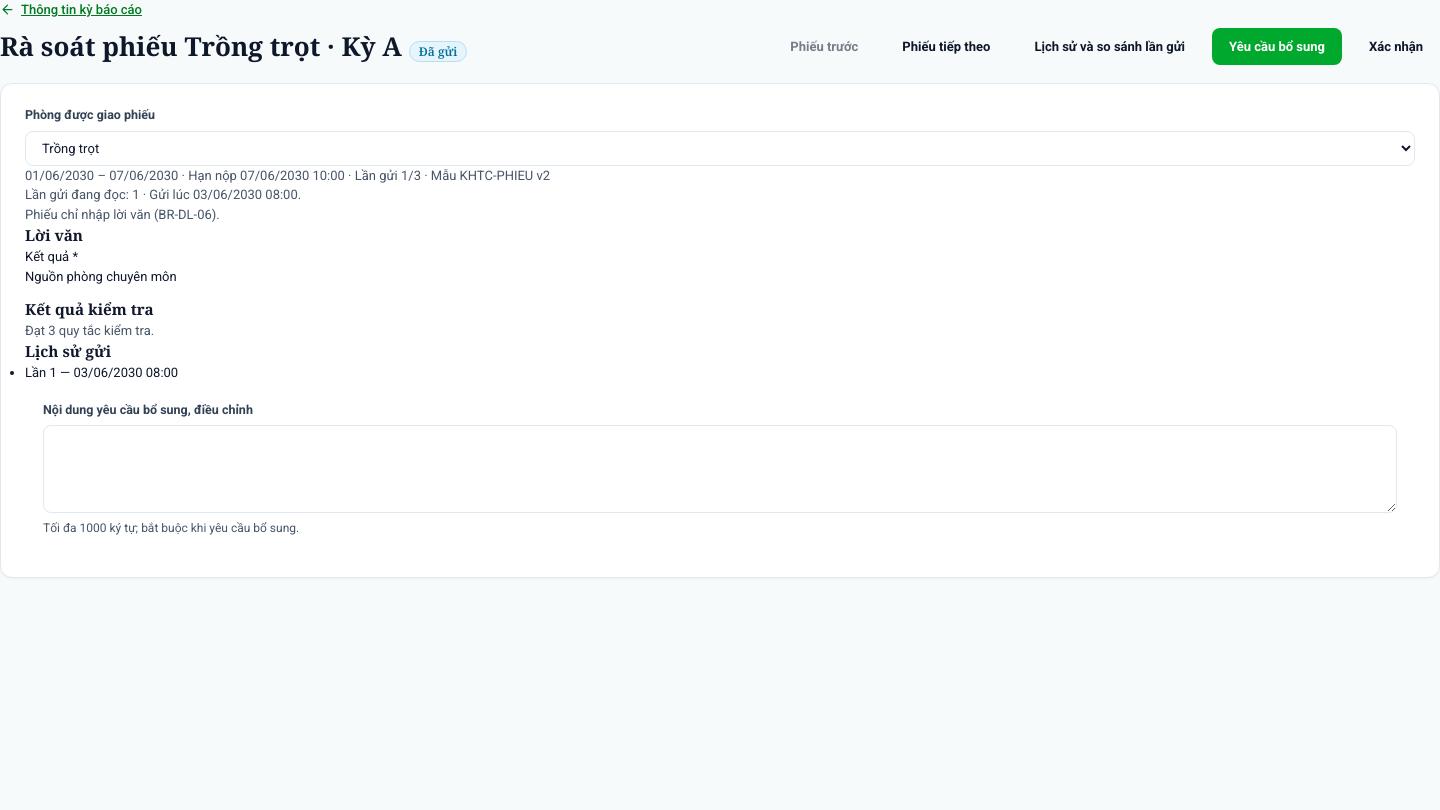
Test: review241 — quyết định gắn với lần gửi đã đọc › xác nhận trước POST và giữ đúng target, phiên bản, nội dung
expect the heading "Rà soát phiếu Trồng trọt · Kỳ A Đã gửi" is shown: met, box [0,30,468,62]
Type "  Kiểm tra số liệu  " into the text box at (720, 469), box [43,425,1397,513]
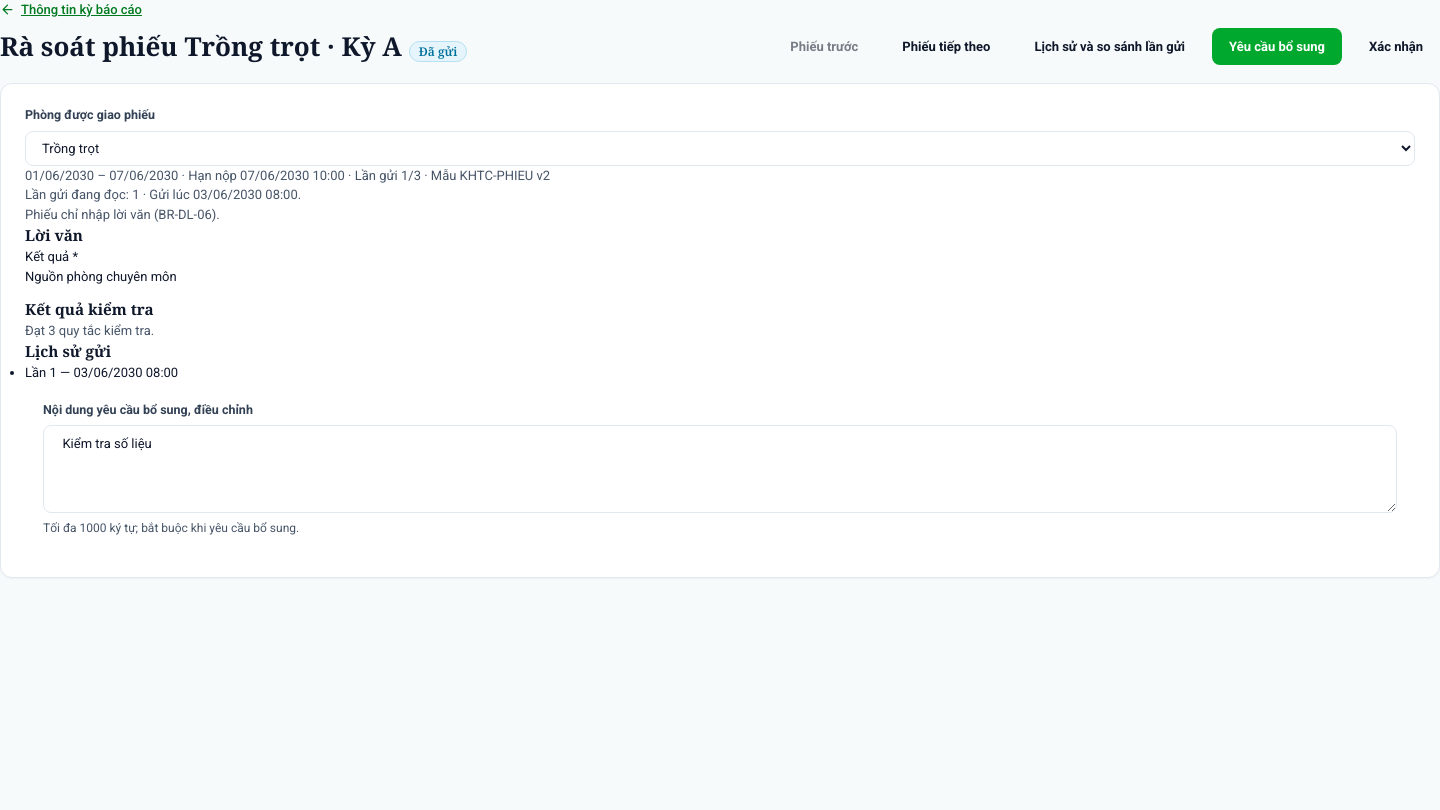
Click the button "Yêu cầu bổ sung" at (1277, 46), box [1212,28,1342,65]
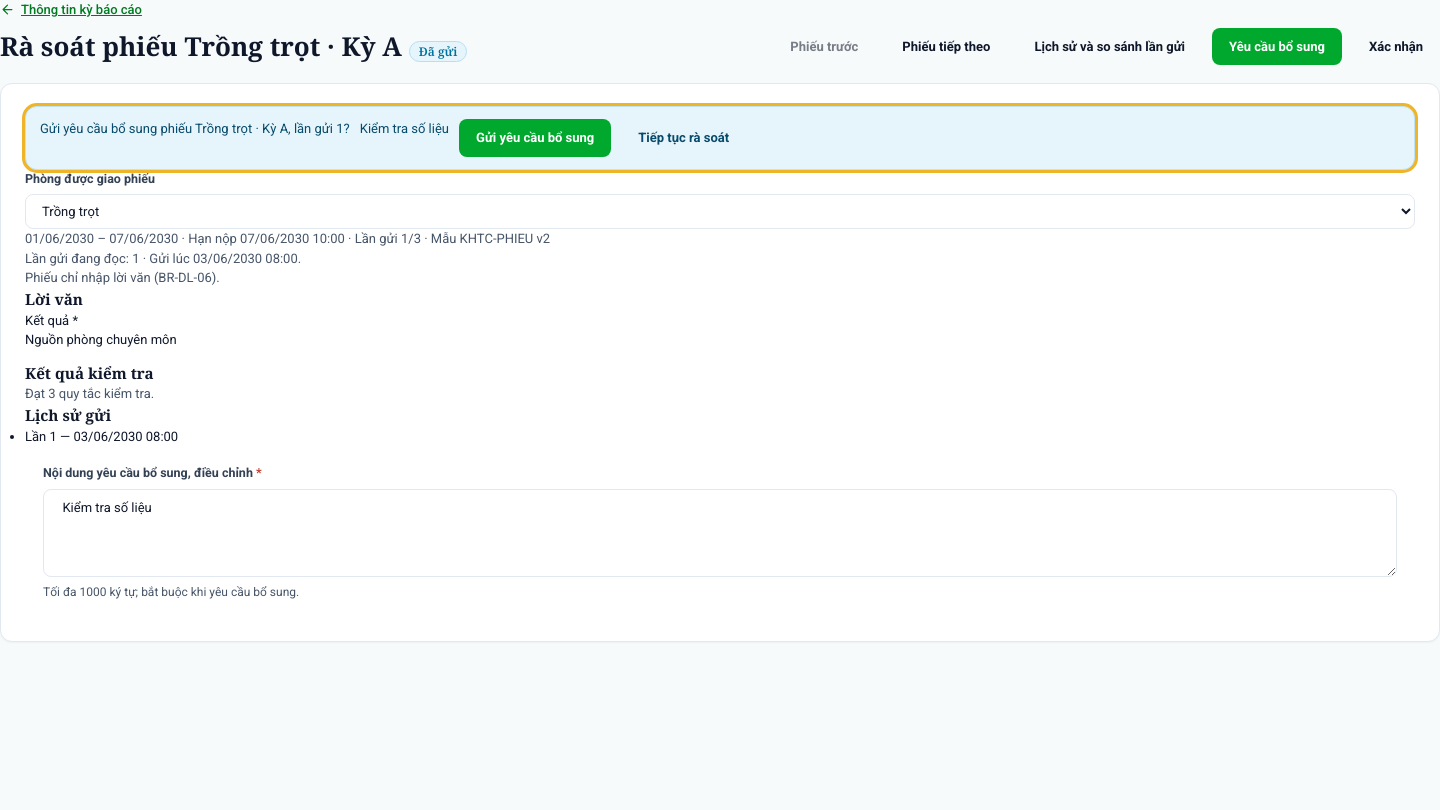
expect the dialog named "Xác nhận yêu cầu bổ sung" shows "Kiểm tra số liệu": met, box [360,121,449,136]
Click the button "Gửi yêu cầu bổ sung" at (535, 138), box [459,119,611,156]
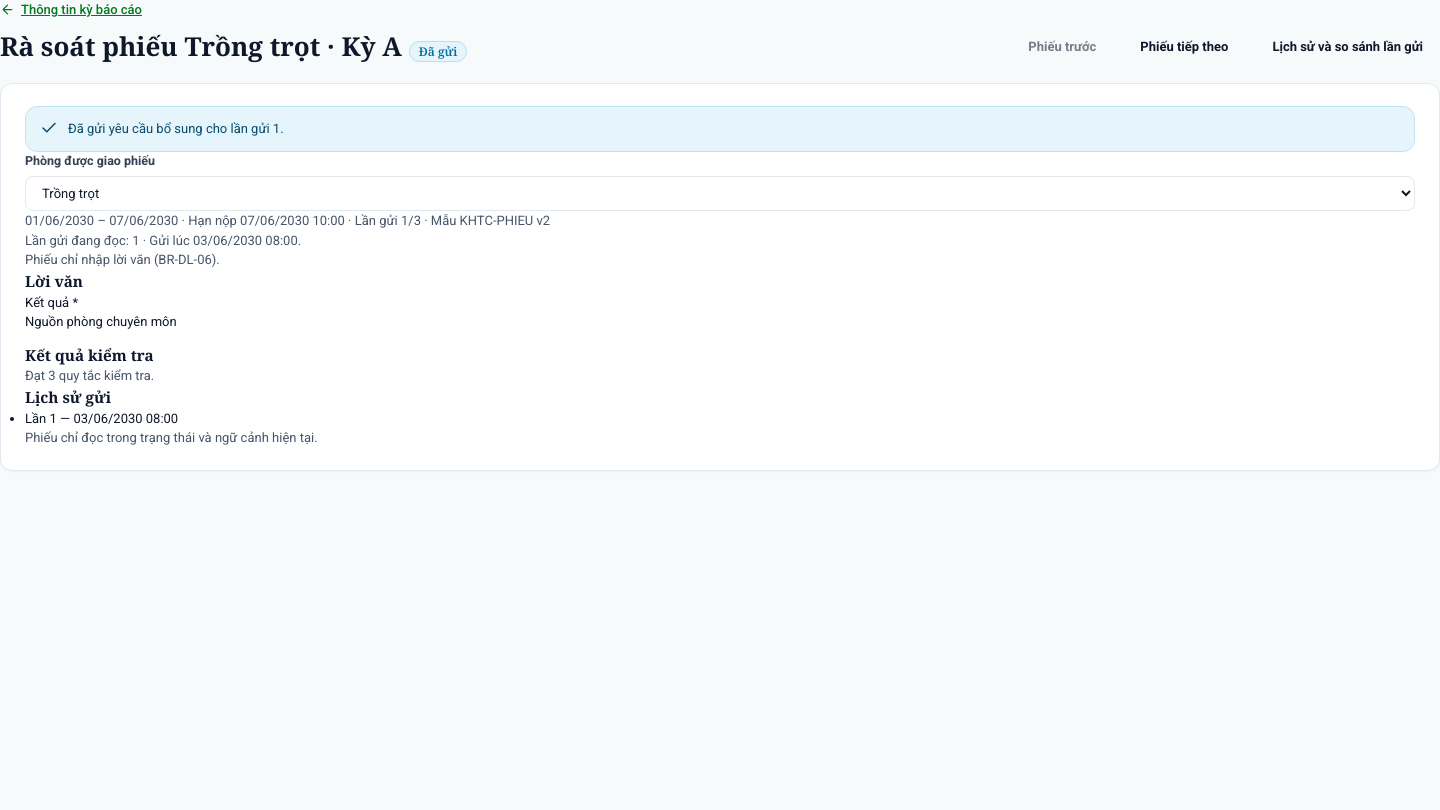
expect the text "Đã gửi yêu cầu bổ sung cho lần gửi 1." is shown: met, box [68,119,284,138]
